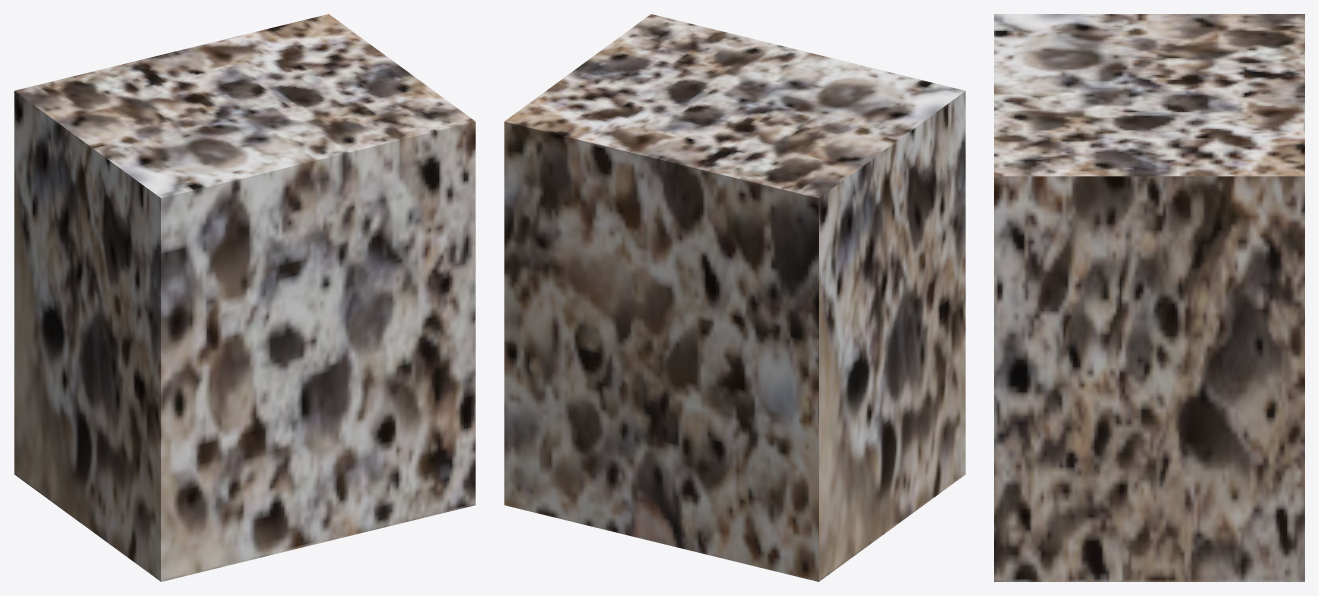
The model's file is Caverna de Corais Labirinto Interno.fbx.
3 renders of one model, left to right at view 1: azimuth 30°, elevation 25°; view 2: azimuth 150°, elevation 25°; view 3: azimuth 270°, elevation 25°, orthographic. The views are drawn at different scales.
Parts seen in each view (by area): view 1: polySurface2; view 2: polySurface2; view 3: polySurface2.
Boxes of the visible parts, x1=… form: polySurface2: x1=14, y1=14, x2=475, y2=581; polySurface2: x1=504, y1=14, x2=965, y2=581; polySurface2: x1=994, y1=14, x2=1304, y2=581.
Bounding box in the file's own units: 17.1 × 19.92 × 13.83.
1 material, 1 textured.
